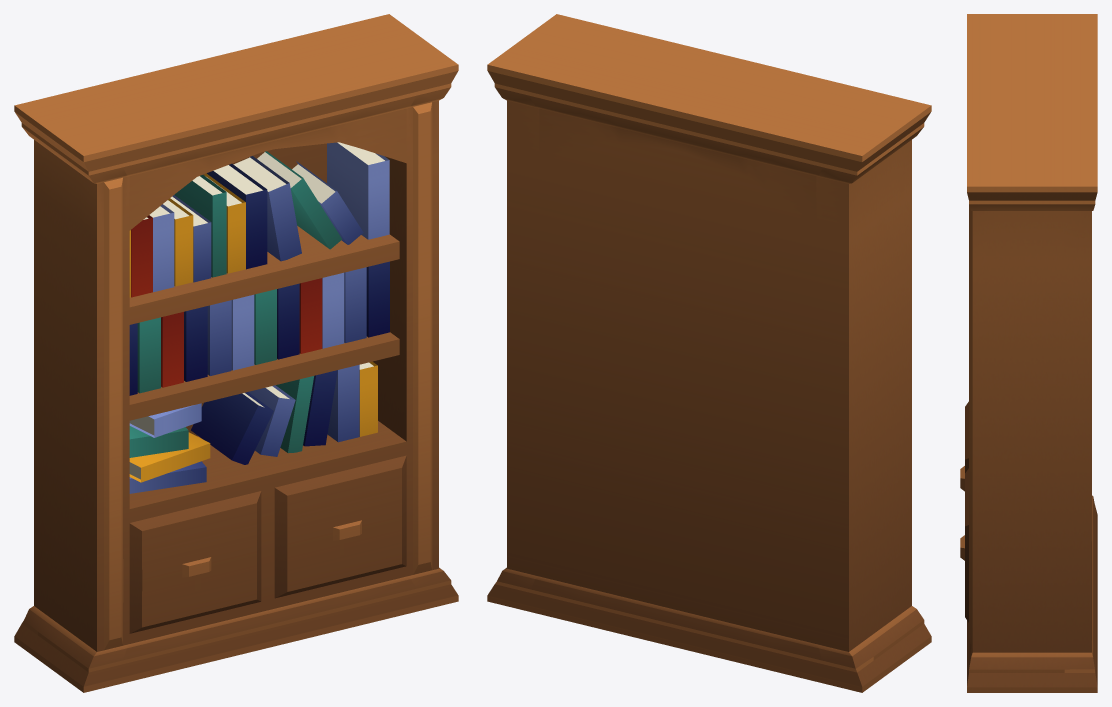
File: Lyhyt_Kirjahylly_Ver2.fbx
3 views of the same model, side by side, from view 1: azimuth 30°, elevation 25°; view 2: azimuth 150°, elevation 25°; view 3: azimuth 270°, elevation 25° (orthographic). The views are drawn at different scales.
Parts seen in each view (by area): view 1: Kirjahylly_2; view 2: Kirjahylly_2; view 3: Kirjahylly_2.
Part boxes in pixels (x1,y1,x2,y2): Kirjahylly_2: (14, 14, 458, 692); Kirjahylly_2: (487, 14, 931, 692); Kirjahylly_2: (960, 14, 1097, 692).
Bounding box in the file's own units: 1.05 × 1.44 × 0.353.
